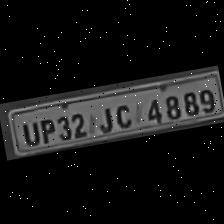2: (65, 106, 90, 138)
3: (52, 110, 72, 140)
4: (136, 92, 164, 124)
8: (158, 89, 181, 119), (178, 86, 200, 115)
9: (194, 82, 216, 113)
C: (108, 98, 135, 129)
J: (89, 102, 114, 132)
P: (35, 114, 57, 144)
U: (16, 116, 38, 146)
